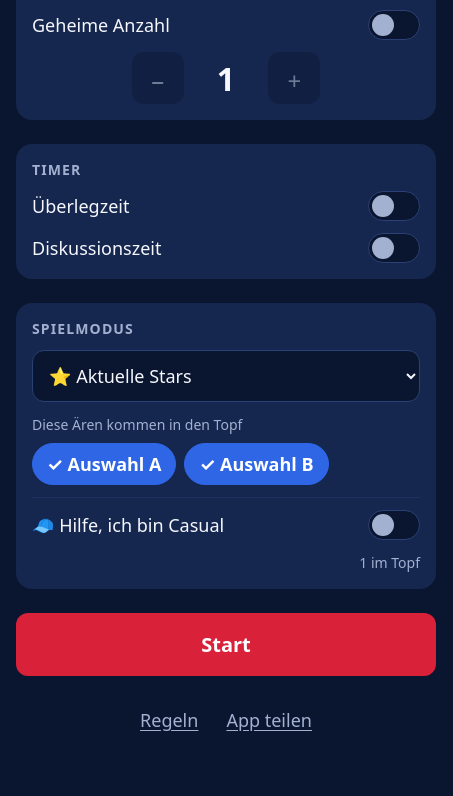
it: Setup mit Topfoptionen › validiert die aktuelle gefilterte Größe auch ohne übergebene Topfgrößen
This screenshot has width=453, height=796.
(page scrolled)
Click the switch labelled "🧢 Hilfe, ich bin Casual".
click(394, 525)  # box [368,510,420,540]
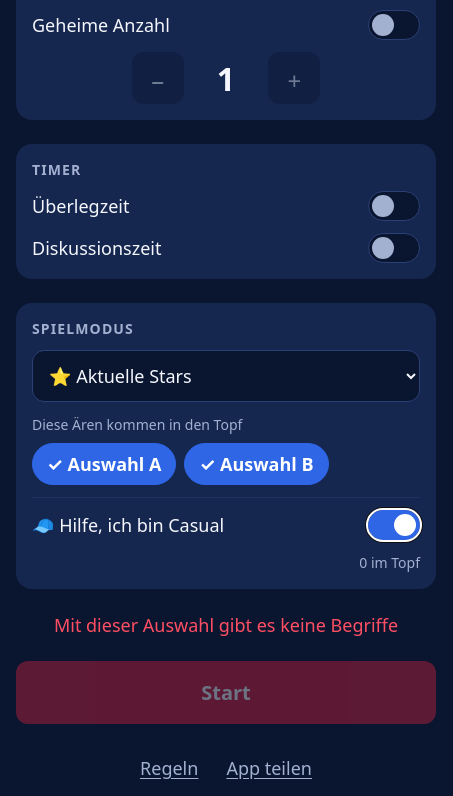
Check: the list item "Mit dieser Auswahl gibt es keine Begriffe" is shown, box [54,613,398,637]
Check: the button "Start" is disabled, box [16,661,436,724]
Click the switch labelled "🧢 Hilfe, ich bin Casual".
click(394, 525)  # box [368,510,420,540]
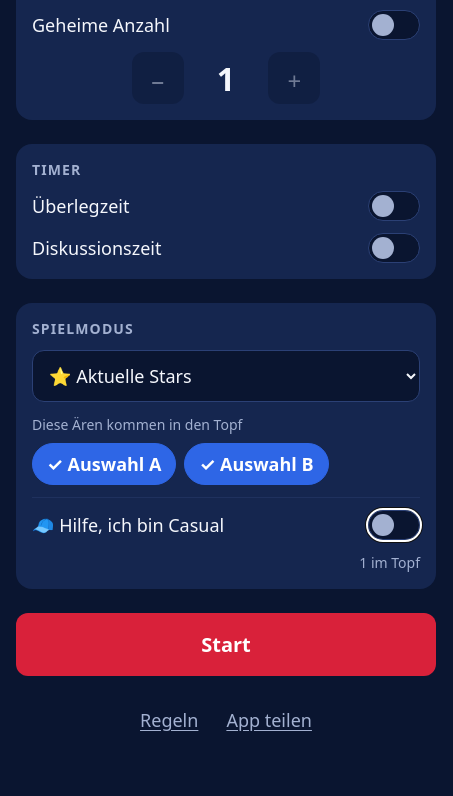
Check: the button "Start" is enabled, box [16,613,436,676]
